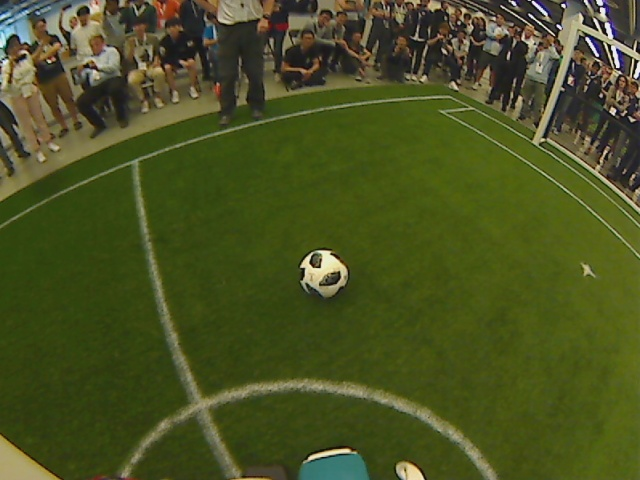ball: (296, 246, 350, 298)
